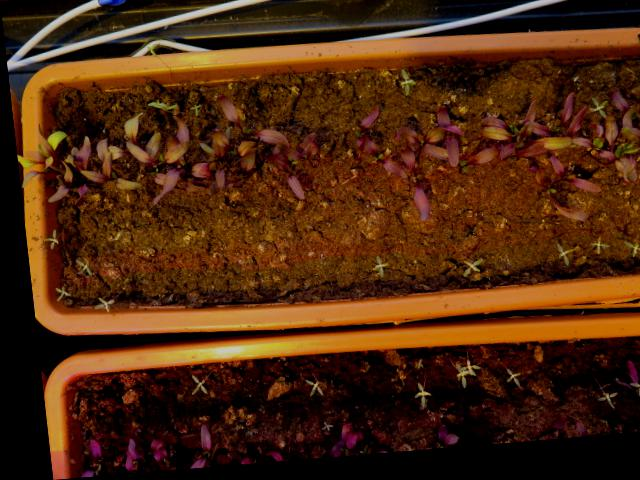weed: (400, 383, 423, 420), (613, 242, 639, 271), (448, 262, 478, 286), (393, 71, 414, 105), (546, 246, 568, 277), (176, 372, 199, 401), (579, 241, 604, 267), (33, 225, 54, 255), (583, 398, 608, 423), (362, 257, 384, 285), (492, 371, 514, 399), (292, 379, 315, 405), (83, 293, 109, 315), (44, 282, 65, 306), (67, 254, 86, 279), (307, 419, 325, 440)
